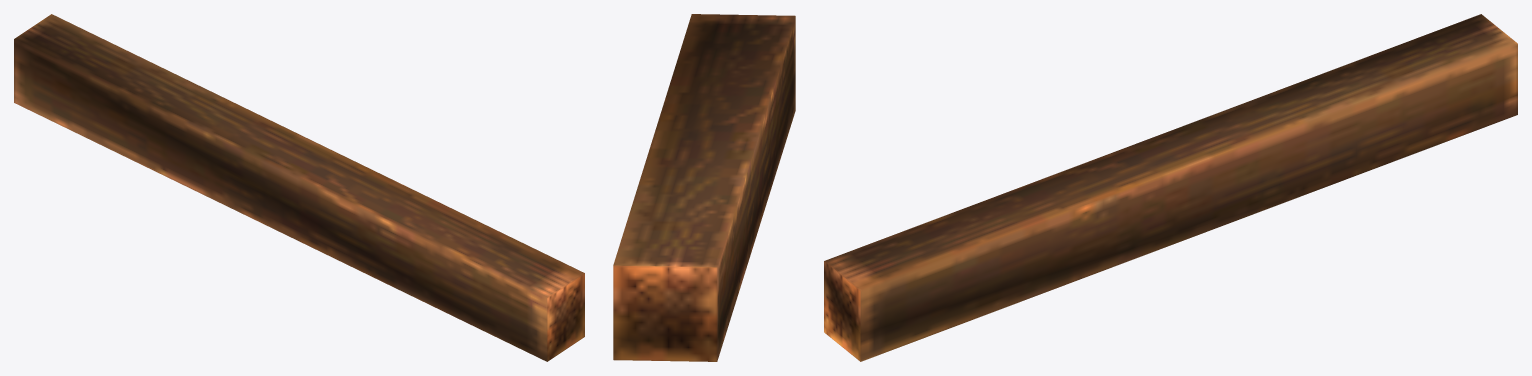
Rendered from SWORDLIGHT20_JAILBRACE10.fbx.
The picture shows the model from 3 angles, left to right: view 1: azimuth 30°, elevation 25°; view 2: azimuth 150°, elevation 25°; view 3: azimuth 270°, elevation 25°; orthographic projection. The views are drawn at different scales.
Visible parts, largest first — view 1: SWORDLIGHT20_JAILBRACE10; view 2: SWORDLIGHT20_JAILBRACE10; view 3: SWORDLIGHT20_JAILBRACE10.
Boxes of the visible parts, box(x1,y1,x2,y2) form: SWORDLIGHT20_JAILBRACE10: box(14, 14, 584, 361); SWORDLIGHT20_JAILBRACE10: box(613, 14, 795, 361); SWORDLIGHT20_JAILBRACE10: box(824, 14, 1517, 361).
Bounding box in the file's own units: 19316 × 10478 × 35203.
Materials: 1 (1 with a texture image).
